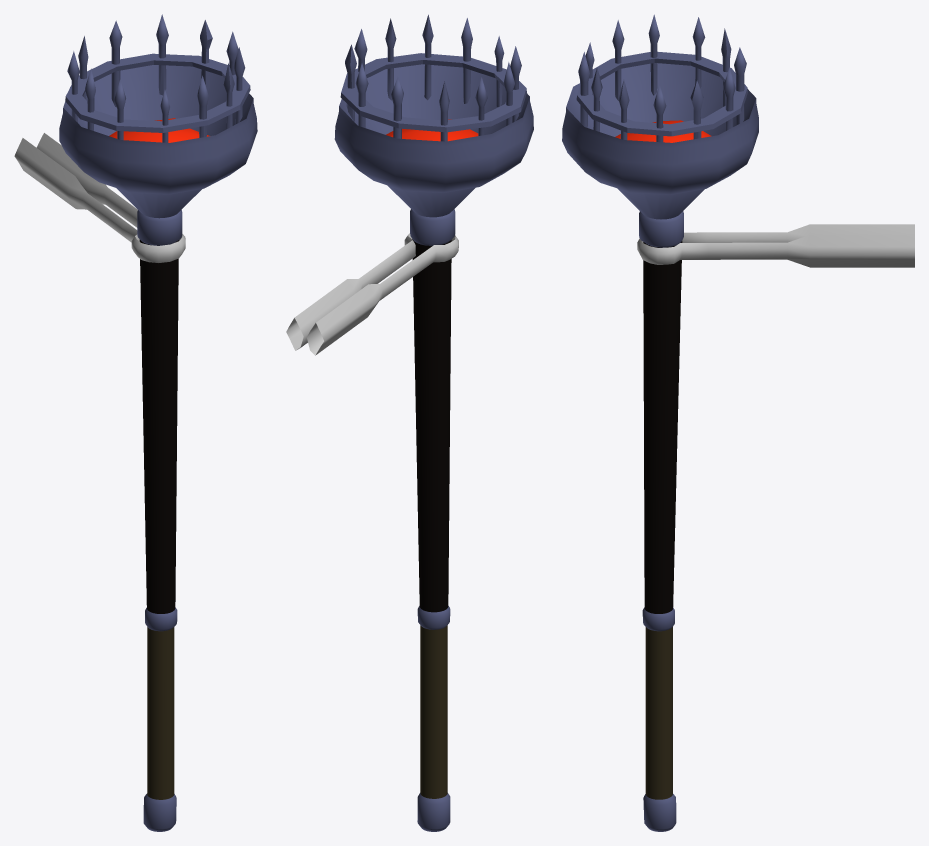
Rendered from TorchWall_25.fbx.
3 views of the same model, side by side, from view 1: azimuth 30°, elevation 25°; view 2: azimuth 150°, elevation 25°; view 3: azimuth 270°, elevation 25° (orthographic).
Parts seen in each view (by area): view 1: TorchWall_25; view 2: TorchWall_25; view 3: TorchWall_25.
Boxes of the visible parts, x1,y1,x2,y2 form: TorchWall_25: (14, 14, 257, 831); TorchWall_25: (286, 14, 533, 831); TorchWall_25: (562, 14, 914, 831).
Bounding box in the file's own units: 17.83 × 31.77 × 77.26.
